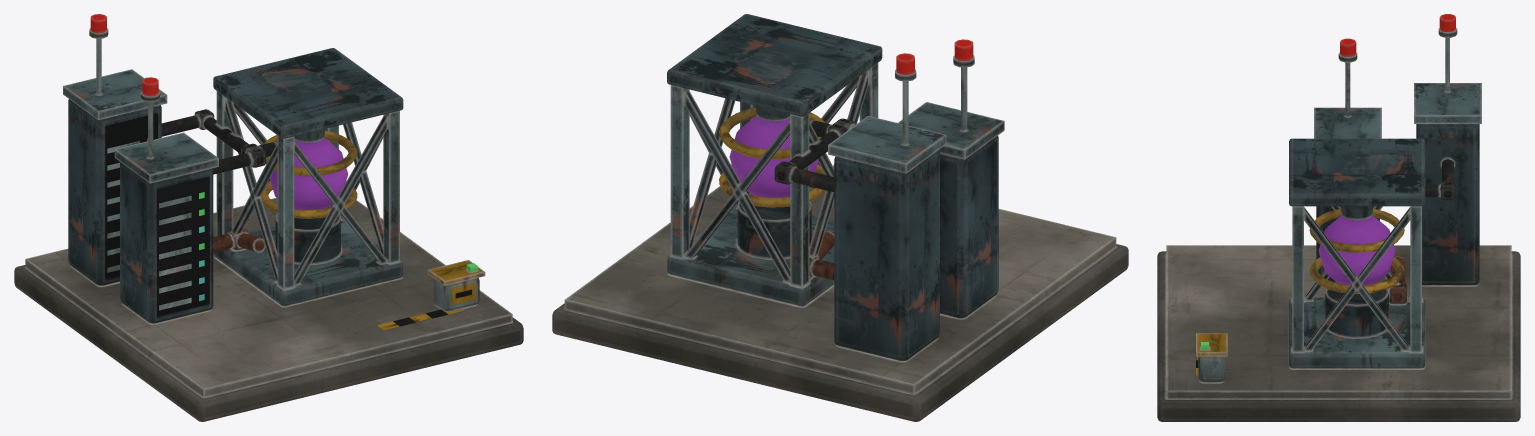
File: research_network_node.glb
3 views of the same model, side by side, from view 1: azimuth 30°, elevation 25°; view 2: azimuth 150°, elevation 25°; view 3: azimuth 270°, elevation 25° (orthographic). The views are drawn at different scales.
Parts seen in each view (by area): view 1: te_research_network_node; view 2: te_research_network_node; view 3: te_research_network_node.
Boxes of the visible parts, box(x1,y1,x2,y2) form: te_research_network_node: box(14, 14, 523, 421); te_research_network_node: box(552, 14, 1128, 421); te_research_network_node: box(1157, 14, 1520, 421).
Bounding box in the file's own units: 0.8 × 0.6708 × 0.8.
1 material, 1 textured.
